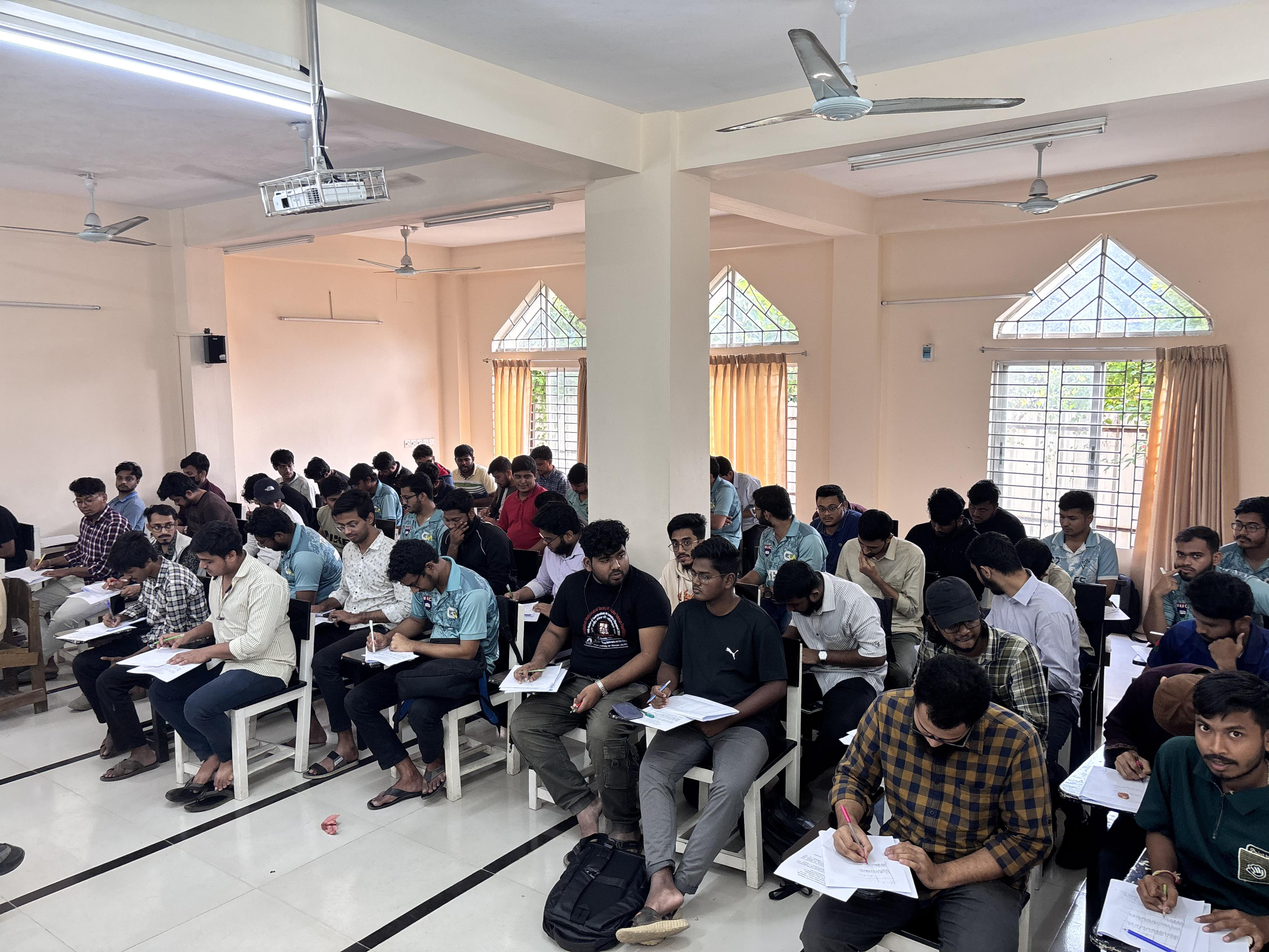copying: (892, 575, 1040, 697), (969, 539, 1053, 648)
hidden_communication: (111, 460, 156, 518)
no_cheating: (823, 674, 1036, 917), (341, 551, 512, 749), (653, 547, 761, 837), (1144, 696, 1269, 943), (165, 542, 290, 748), (93, 548, 200, 695), (1049, 482, 1138, 603), (1162, 599, 1269, 694), (1118, 659, 1204, 769), (233, 503, 336, 592), (61, 480, 123, 616), (318, 505, 380, 630), (833, 515, 912, 613), (151, 472, 235, 534), (908, 486, 960, 563), (654, 507, 696, 599), (392, 482, 446, 540), (1220, 490, 1269, 548), (813, 476, 854, 538), (451, 436, 491, 497), (969, 479, 1011, 534), (447, 435, 490, 483), (342, 459, 388, 503), (531, 439, 574, 484), (478, 445, 522, 487), (528, 440, 567, 480), (305, 460, 345, 495), (567, 465, 597, 511), (373, 450, 407, 488), (489, 456, 516, 499), (411, 440, 447, 467)
side_talking: (263, 447, 312, 496)
suspicious_moving: (537, 529, 659, 772), (1132, 510, 1259, 609), (742, 488, 811, 579), (442, 496, 514, 566), (132, 508, 199, 560)
